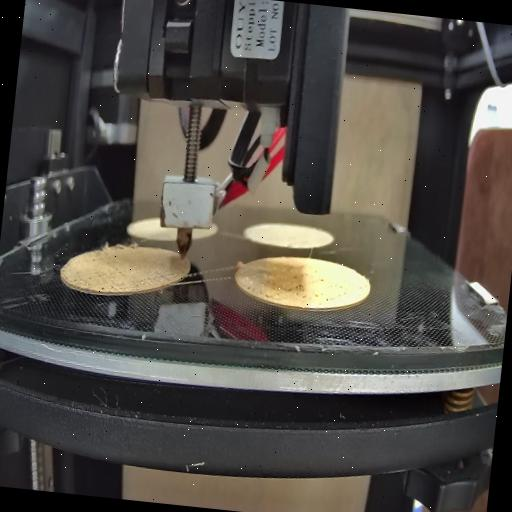under_extrusion: (284, 266, 350, 308), (64, 258, 132, 296), (242, 277, 282, 303), (156, 262, 177, 288)
